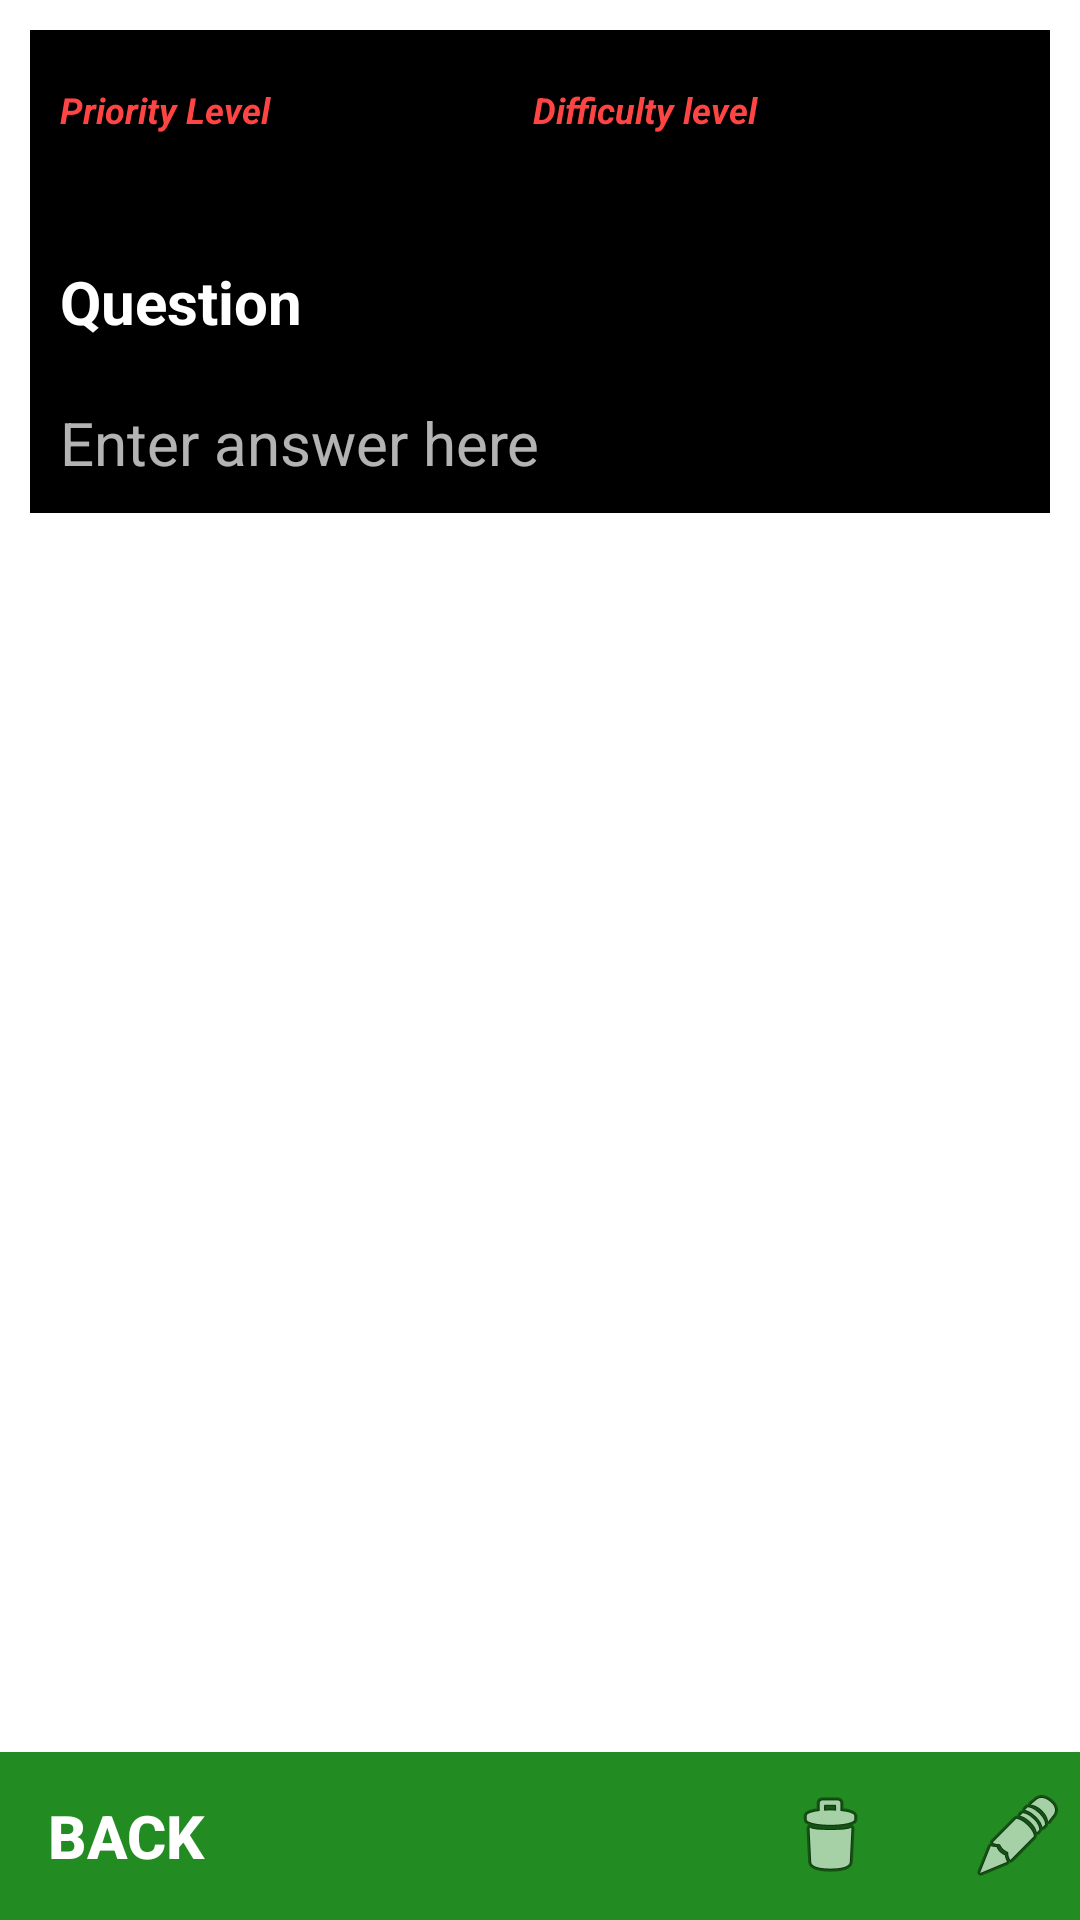

Where to tap for icons on this 1080*1920 app screen, as (x,y):
delete: (830,1834)
edit: (1017,1835)
